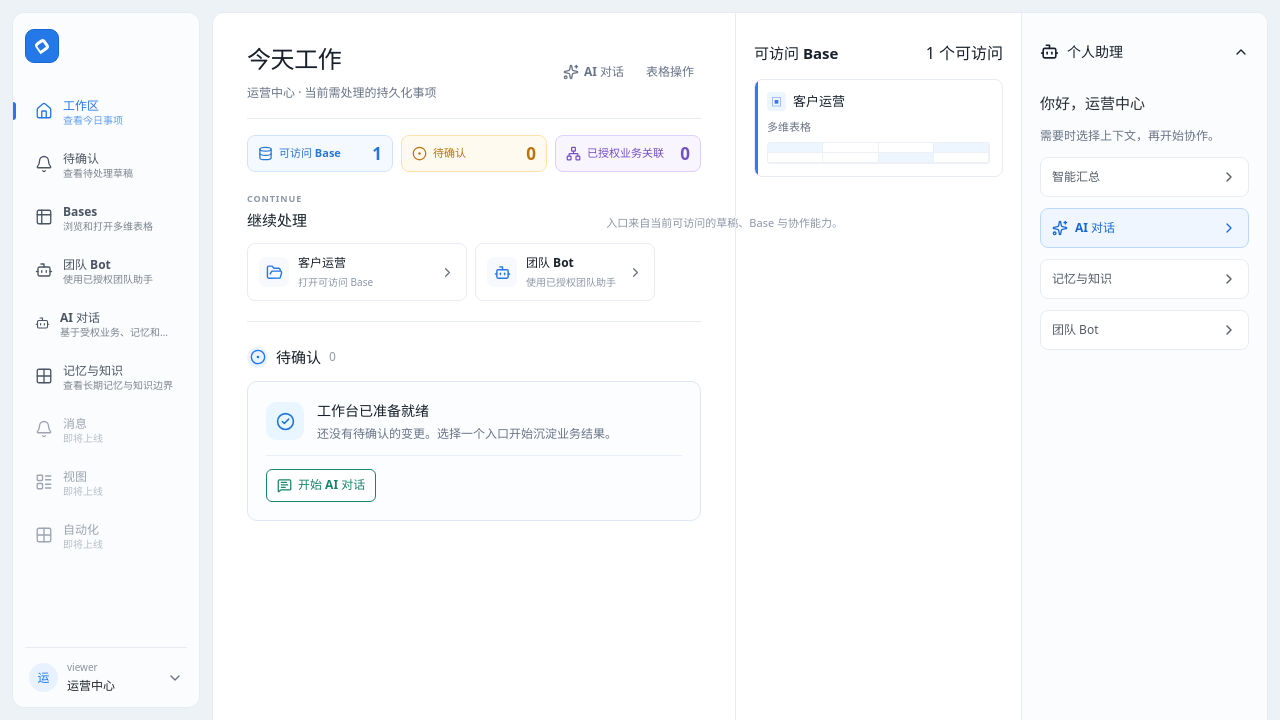
reads the safe Base directory, opens a selection, and lets Home leave the Base canvas
Click the button with aria-label "Bases：浏览和打开多维表格": (106, 217) [25, 193, 187, 241]
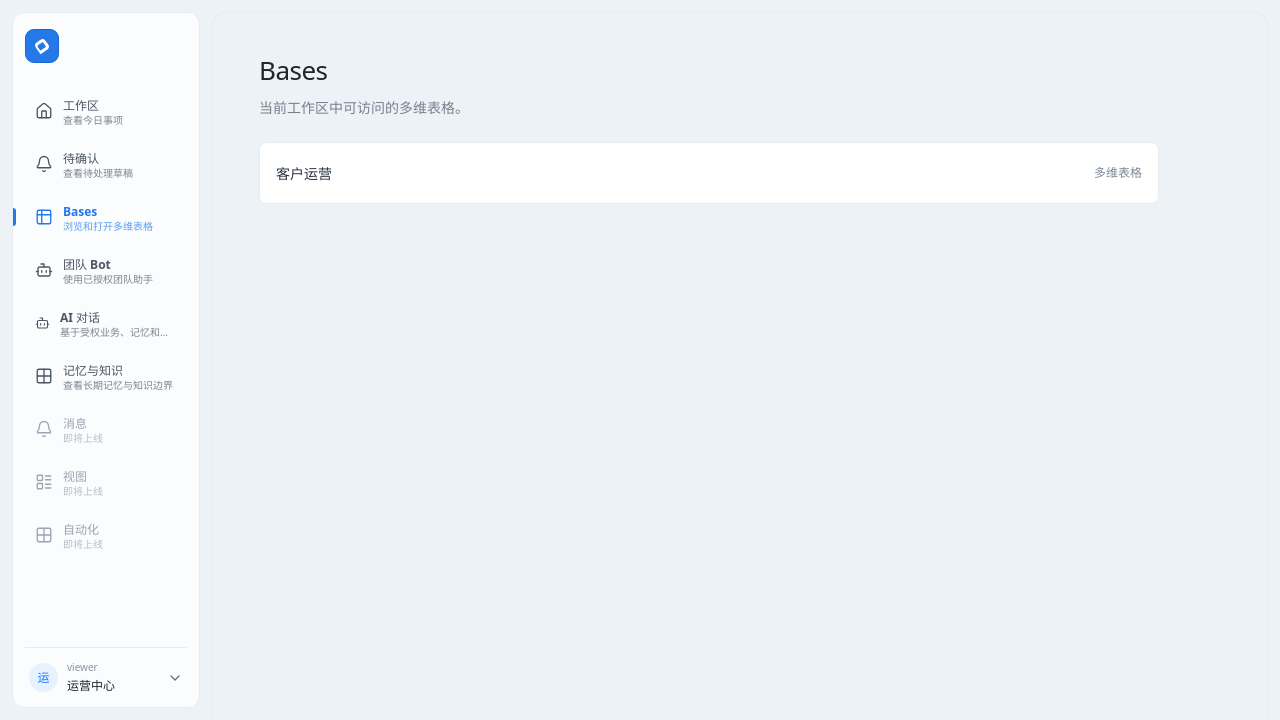
Expected: the text "客户运营" is shown, [276, 162, 332, 184]
Expected: the heading "Bases" is shown, [259, 52, 328, 88]
Click the button with aria-label "打开 客户运营": (304, 173) [259, 142, 1159, 204]
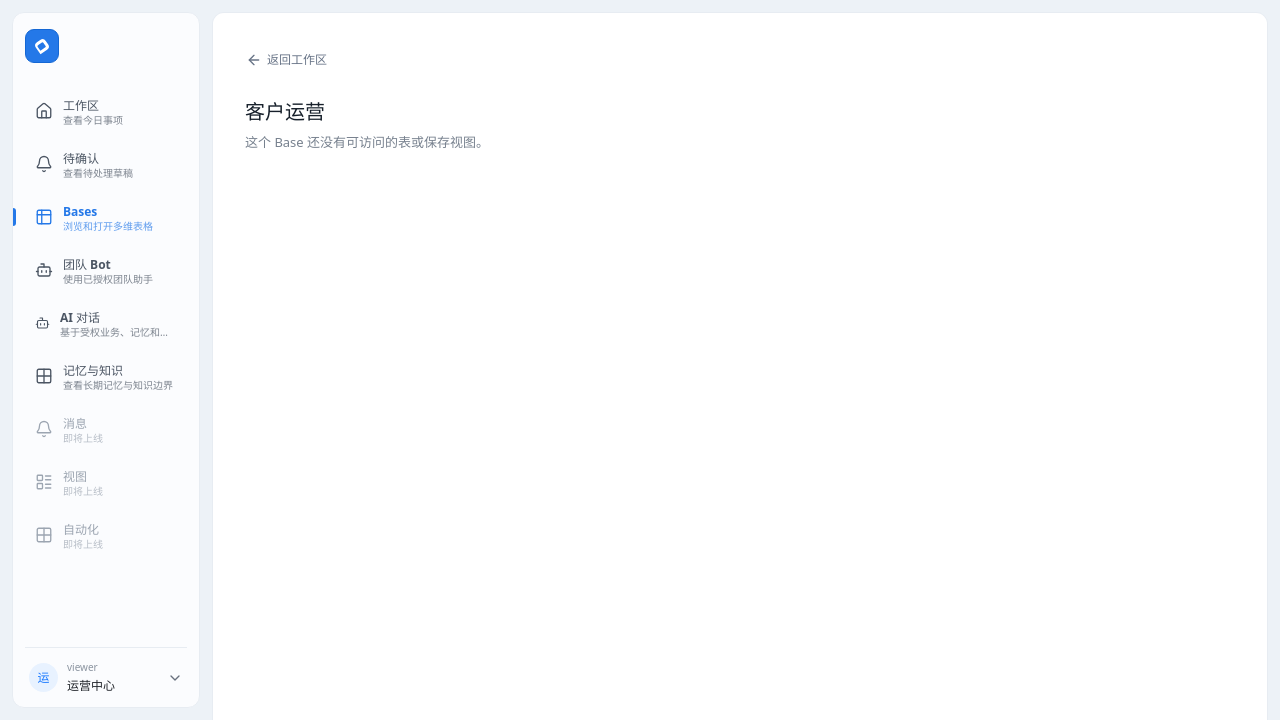
Click the button with aria-label "工作区：查看今日事项": (106, 111) [25, 87, 187, 135]
(page scrolled)
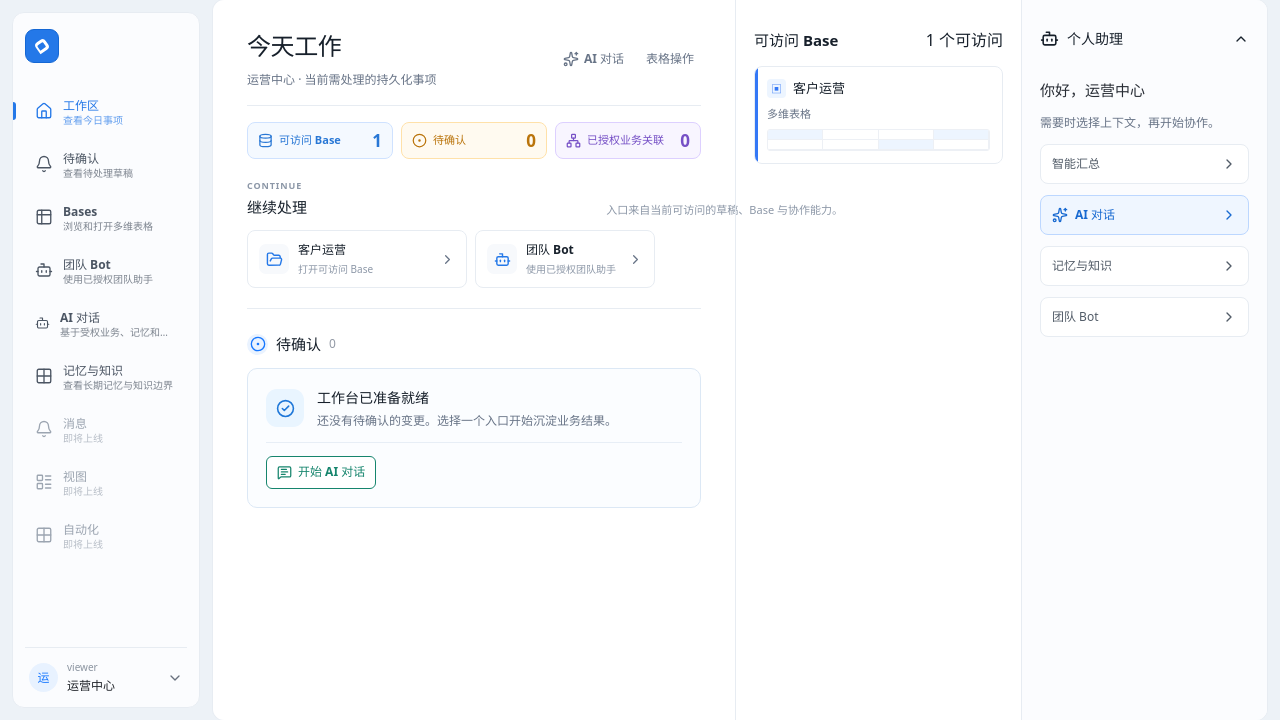
Expected: the element named "工作区首页" is shown
